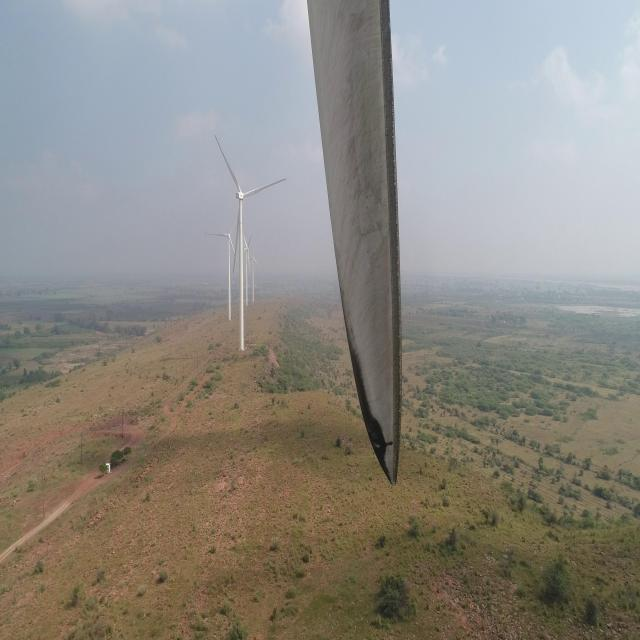Dirt: (308, 0, 402, 484)
Oil LEAKAGE: (348, 336, 397, 486)
Pin Hole: (386, 437, 396, 452)
